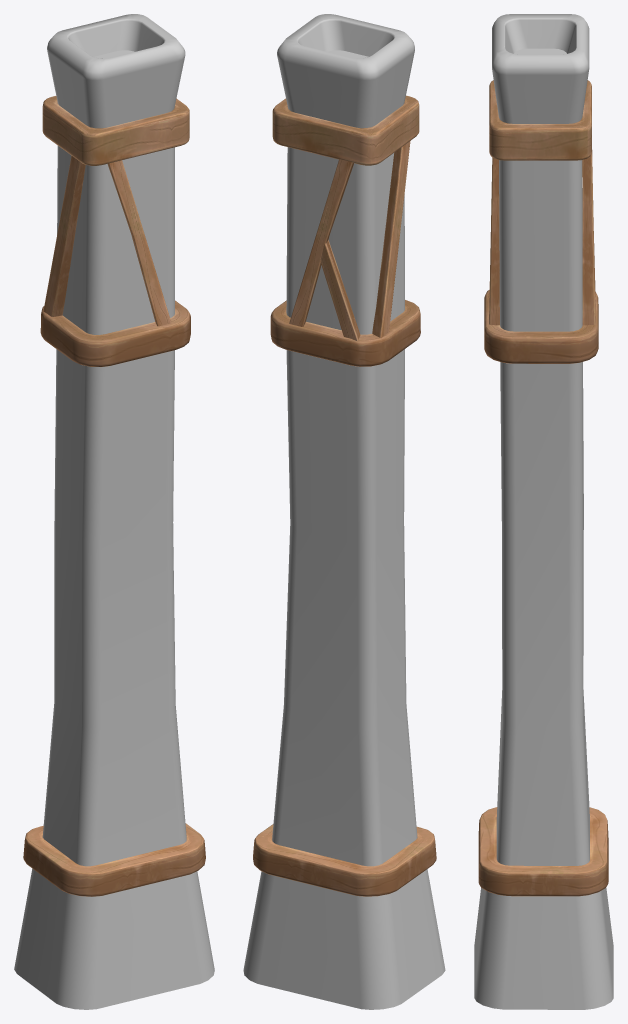
The model's file is SM_Chimney.fbx.
The picture shows the model from 3 angles, left to right: view 1: azimuth 30°, elevation 25°; view 2: azimuth 150°, elevation 25°; view 3: azimuth 270°, elevation 25°; orthographic projection.
Parts seen in each view (by area): view 1: SM_Chimney_LOD0; view 2: SM_Chimney_LOD0; view 3: SM_Chimney_LOD0.
Part boxes in pixels (x1=…): SM_Chimney_LOD0: x1=14, y1=14, x2=214, y2=1009; SM_Chimney_LOD0: x1=243, y1=14, x2=445, y2=1009; SM_Chimney_LOD0: x1=474, y1=14, x2=613, y2=1009.
Size of the model in its own units: 130 by 101 by 744.
Materials: 2 (1 with a texture image).
